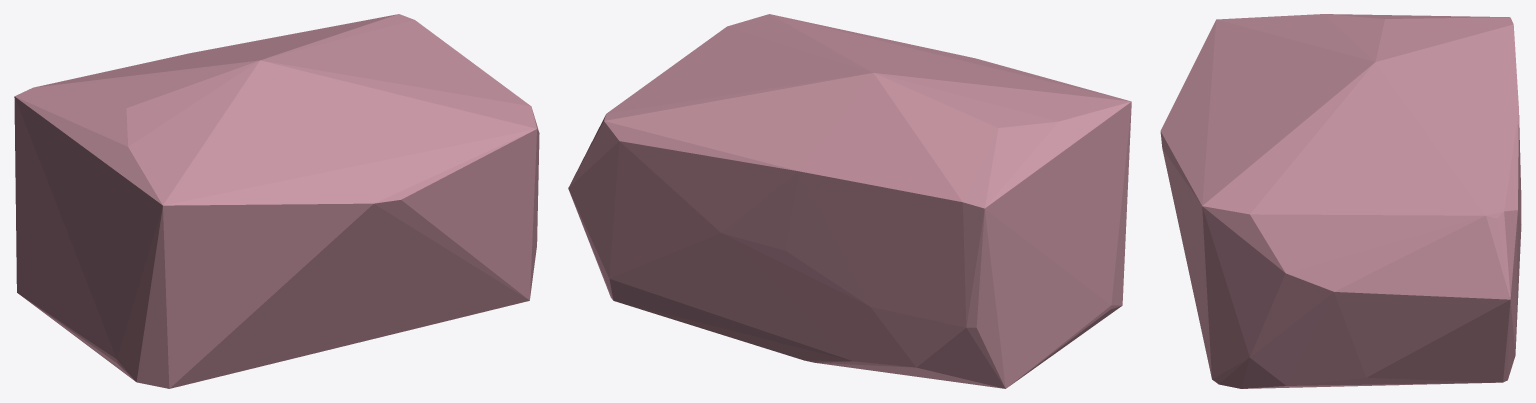
Rendered from safety_firstAidKit_pouch_tactical_a01.glb.
3 views of the same model, side by side, from view 1: azimuth 30°, elevation 25°; view 2: azimuth 150°, elevation 25°; view 3: azimuth 270°, elevation 25° (orthographic).
Parts seen in each view (by area): view 1: geometry_0; view 2: geometry_0; view 3: geometry_0.
Boxes of the visible parts, <box> form: geometry_0: <box>14,14,539,388</box>; geometry_0: <box>568,14,1131,388</box>; geometry_0: <box>1160,14,1521,388</box>.
Bounding box in the file's own units: 0.4779 × 0.2595 × 0.3463.
